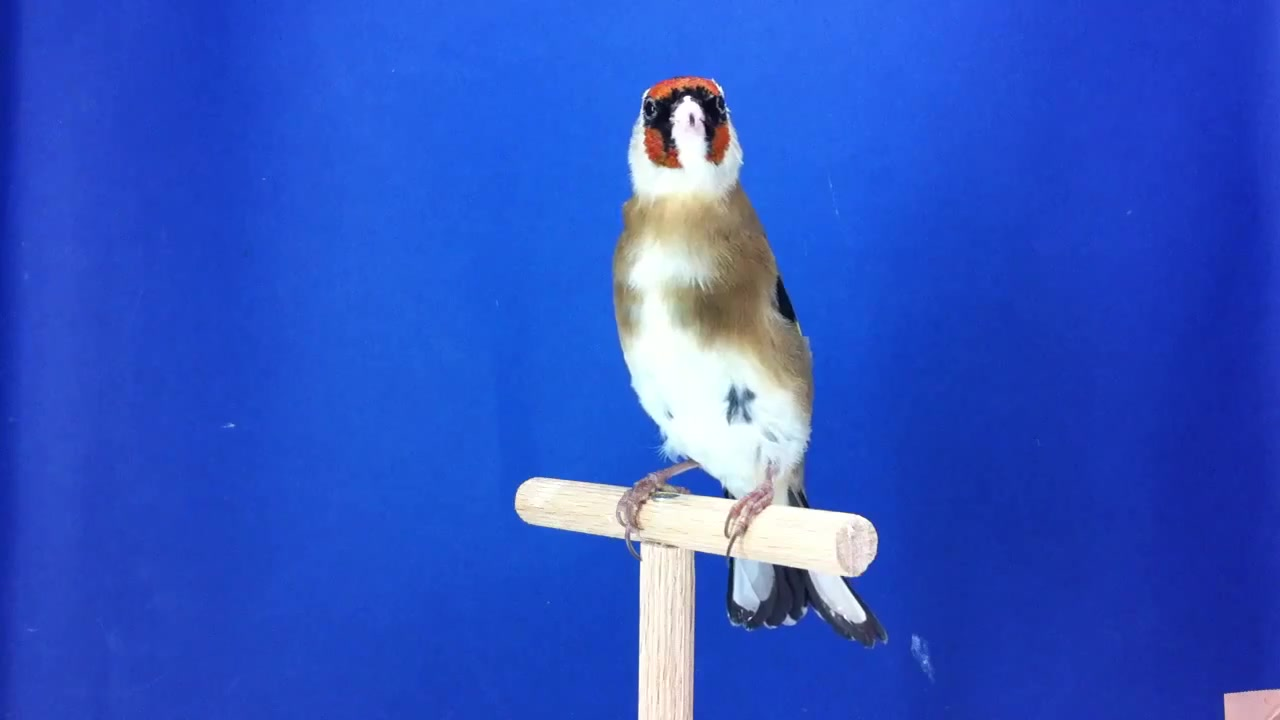bird: (612, 76, 891, 653)
